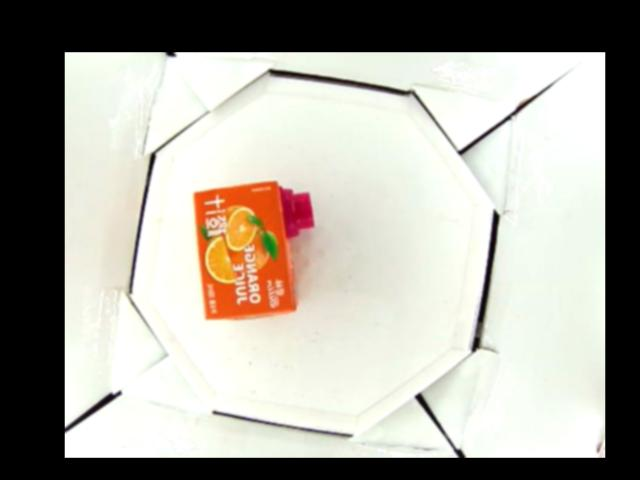Bottle: (192, 182, 315, 320)
